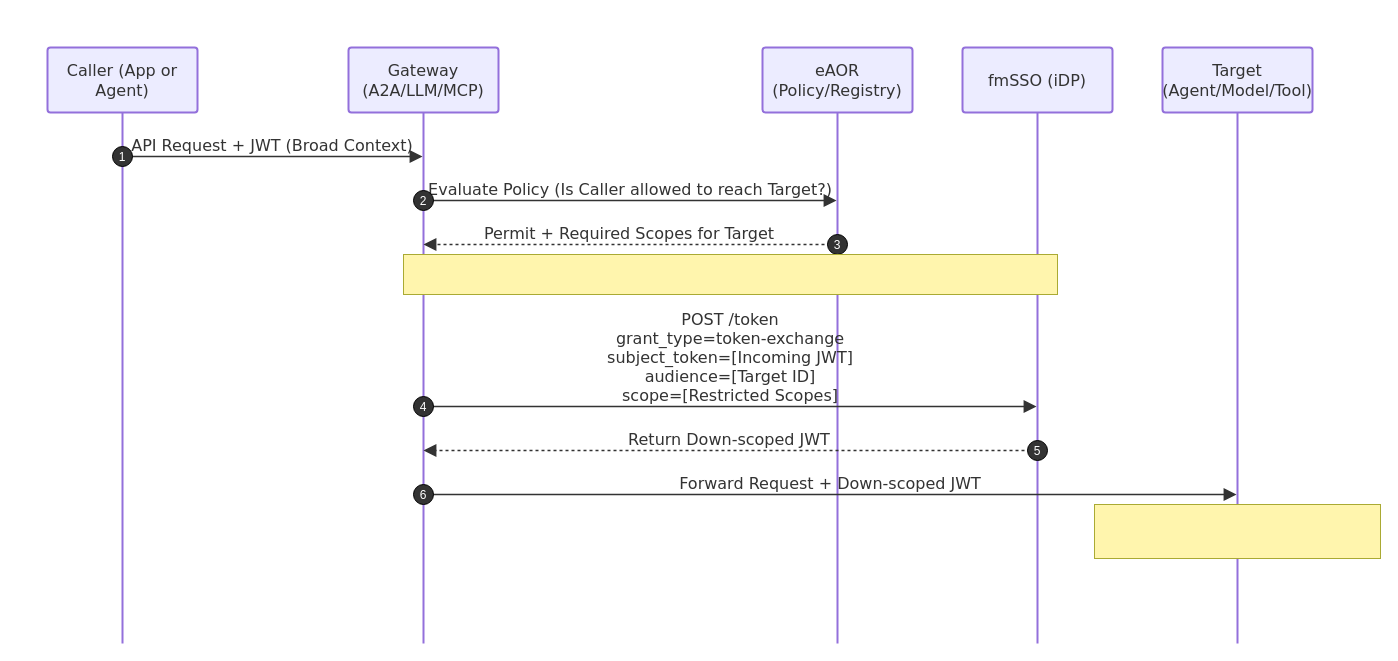
Some shapes in this 1398 by 661 pixel diagram are drawn without their labels. The centre of each missing label's shape, as x and y in pixels:
"Target receives a token valid ONLY for itself, with minimal permissions." belongs at (1237,531).
"Token Exchange (RFC 8693)" belongs at (730,274).
